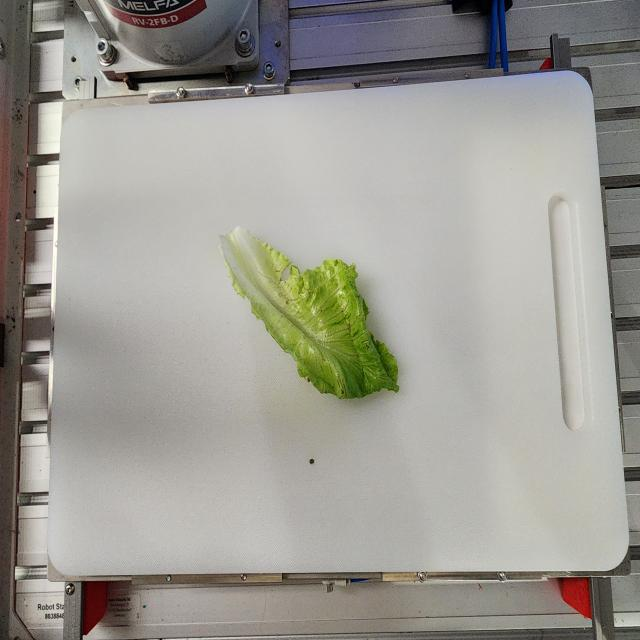lettuce: (218, 224, 400, 401)
